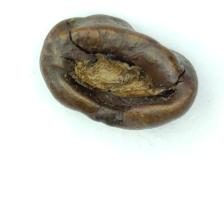NG: (54, 29, 173, 118)
